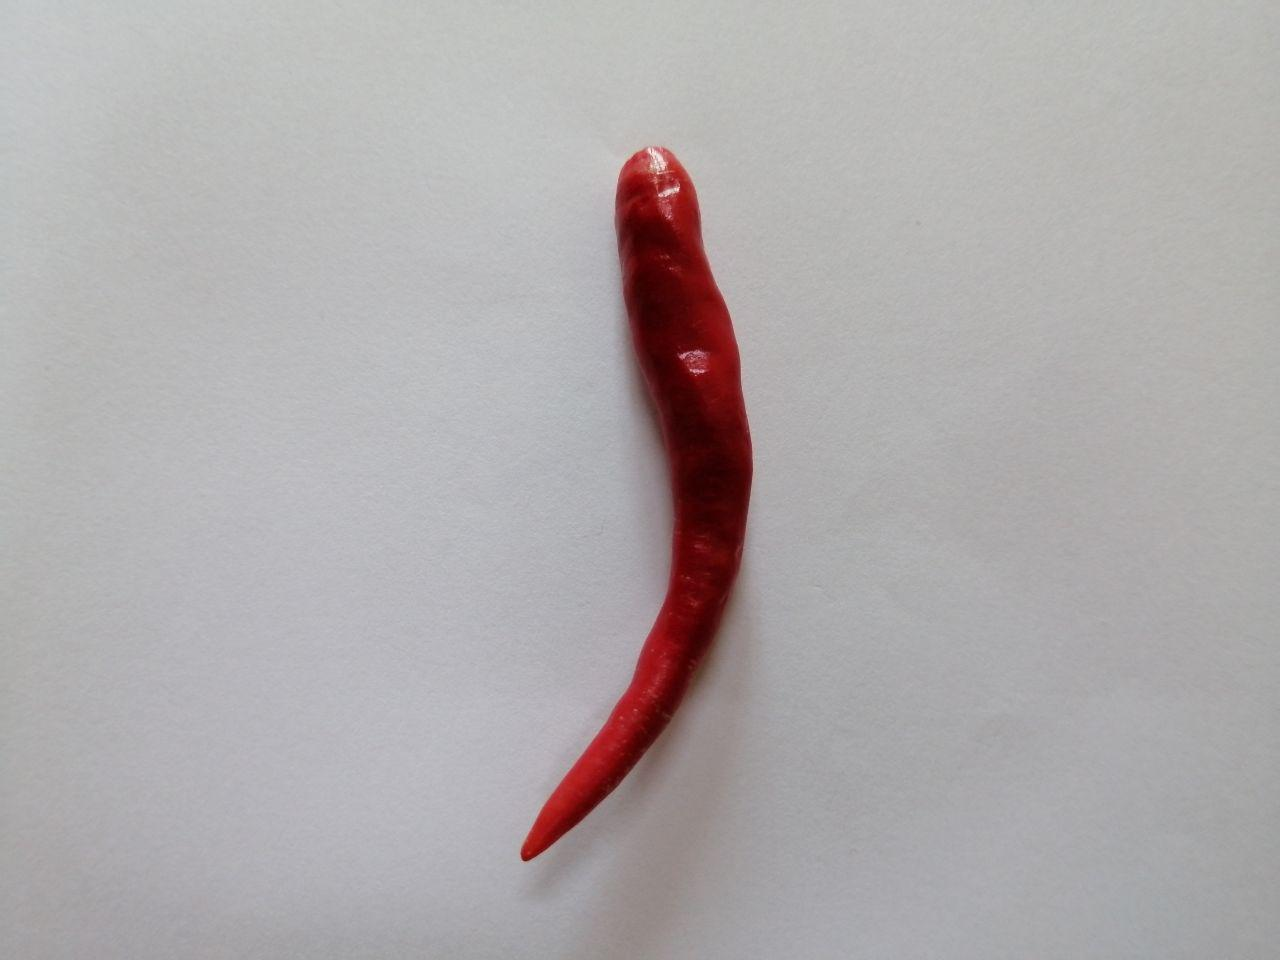lada merah: (493, 137, 768, 877)
